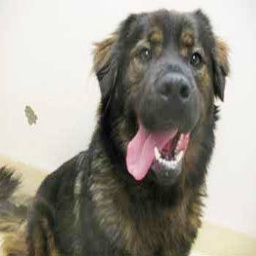dog: (28, 13, 229, 256)
